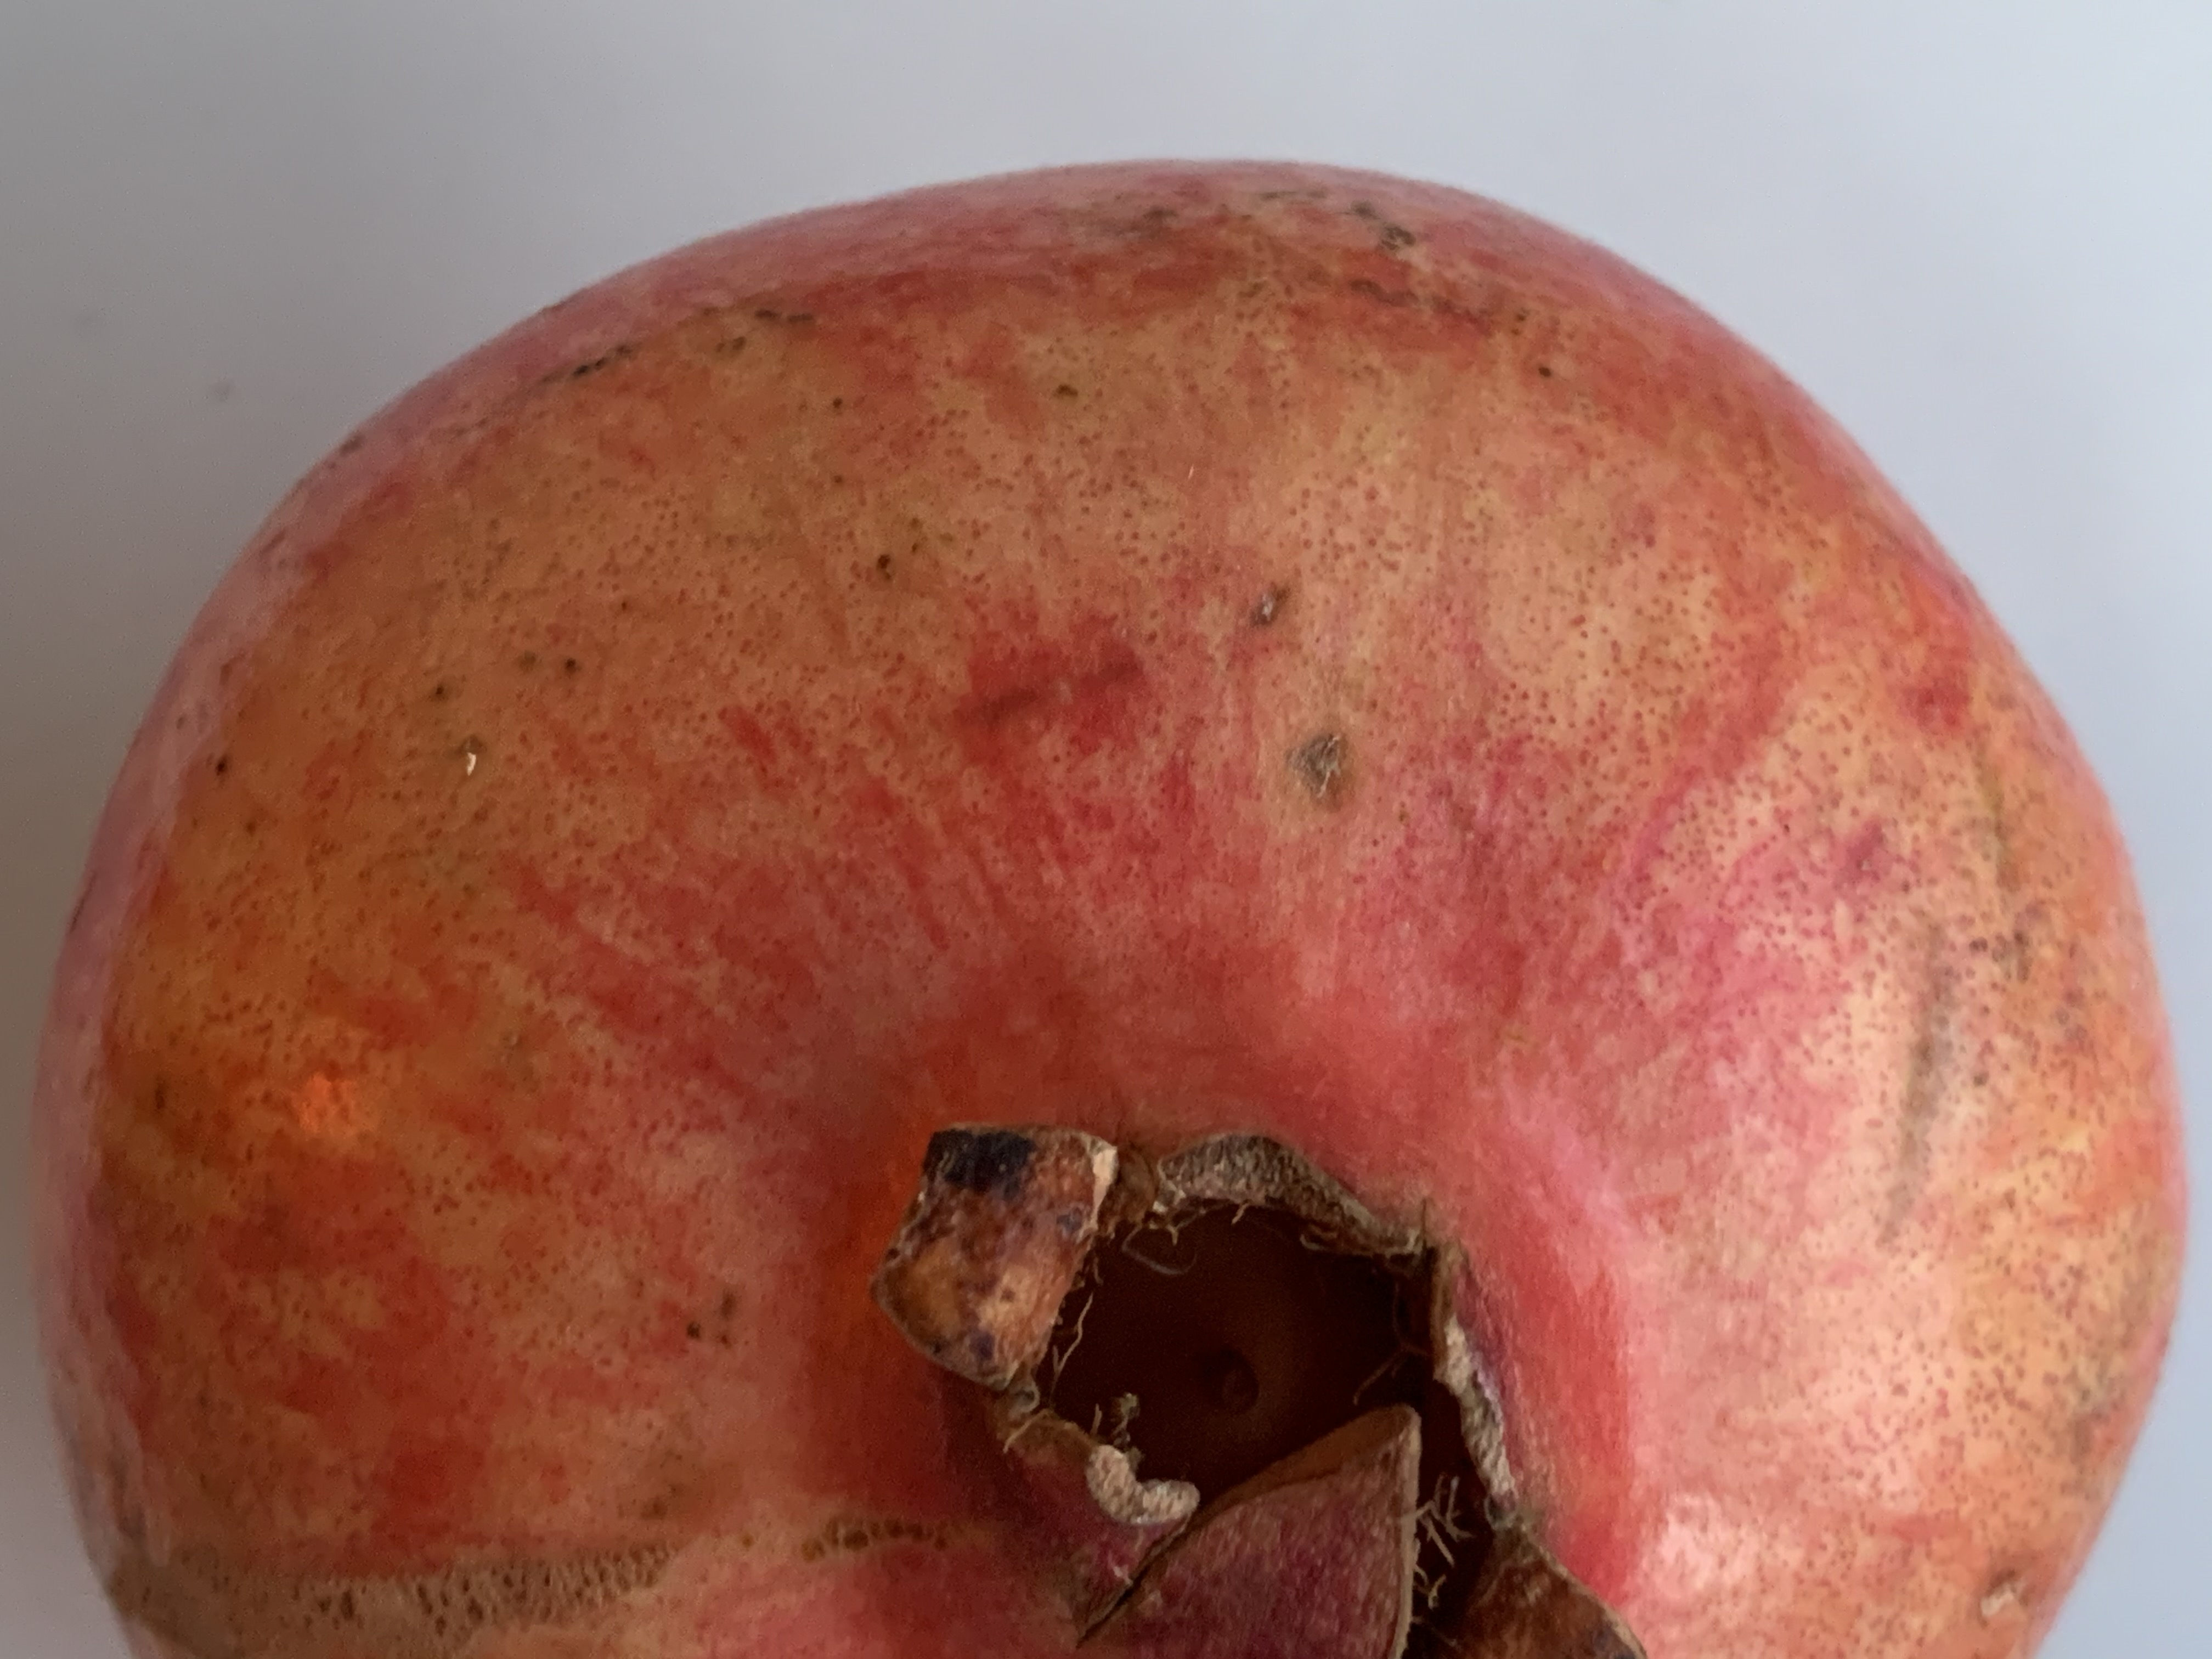Pomegranate: (49, 145, 2188, 1659)
